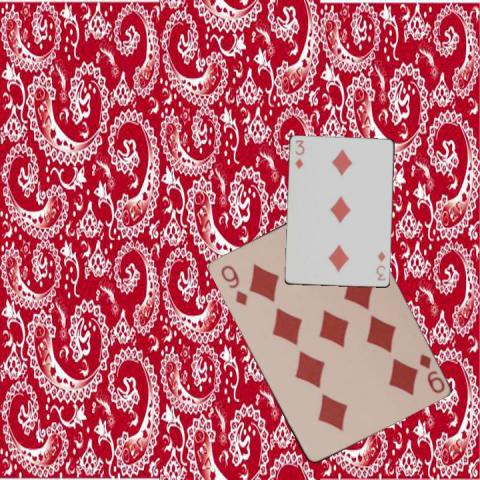3d: (373, 249, 387, 282), (293, 137, 306, 170)
9d: (217, 261, 249, 308), (416, 350, 446, 395)
